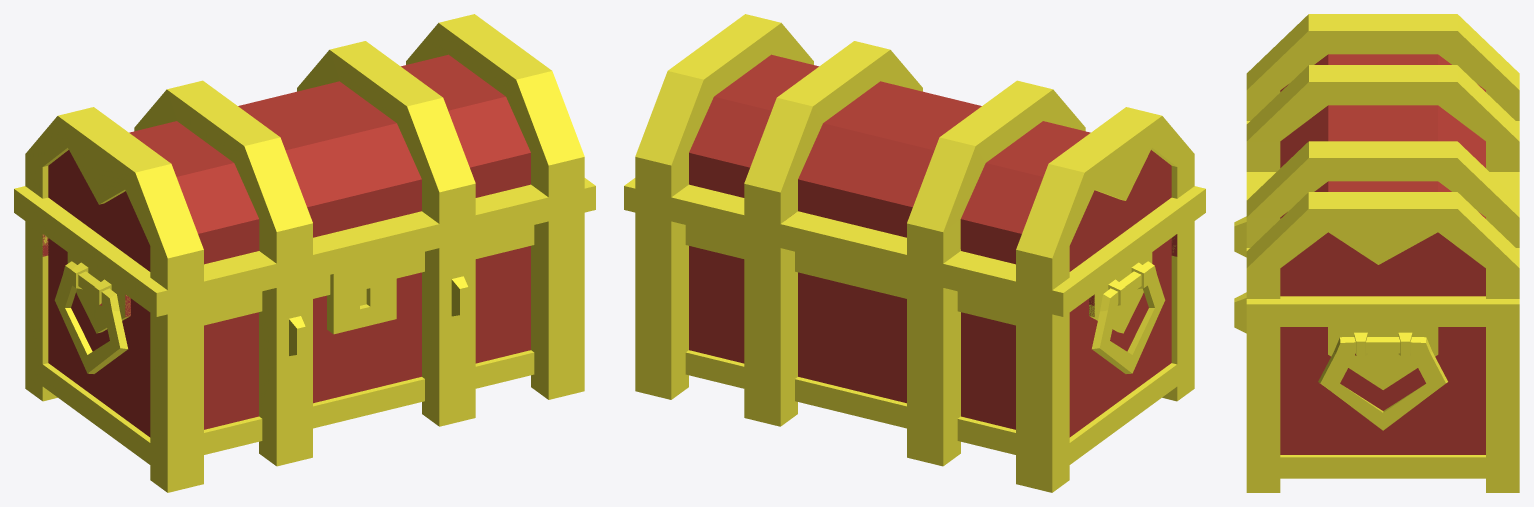
The model's file is Chest.fbx.
The picture shows the model from 3 angles, left to right: view 1: azimuth 30°, elevation 25°; view 2: azimuth 150°, elevation 25°; view 3: azimuth 270°, elevation 25°; orthographic projection. The views are drawn at different scales.
Parts seen in each view (by area): view 1: Cube; view 2: Cube; view 3: Cube.
Part boxes in pixels (x1=…): Cube: x1=14, y1=14, x2=595, y2=492; Cube: x1=624, y1=14, x2=1205, y2=492; Cube: x1=1234, y1=14, x2=1519, y2=492.
Bounding box in the file's own units: 786 × 507 × 462.
